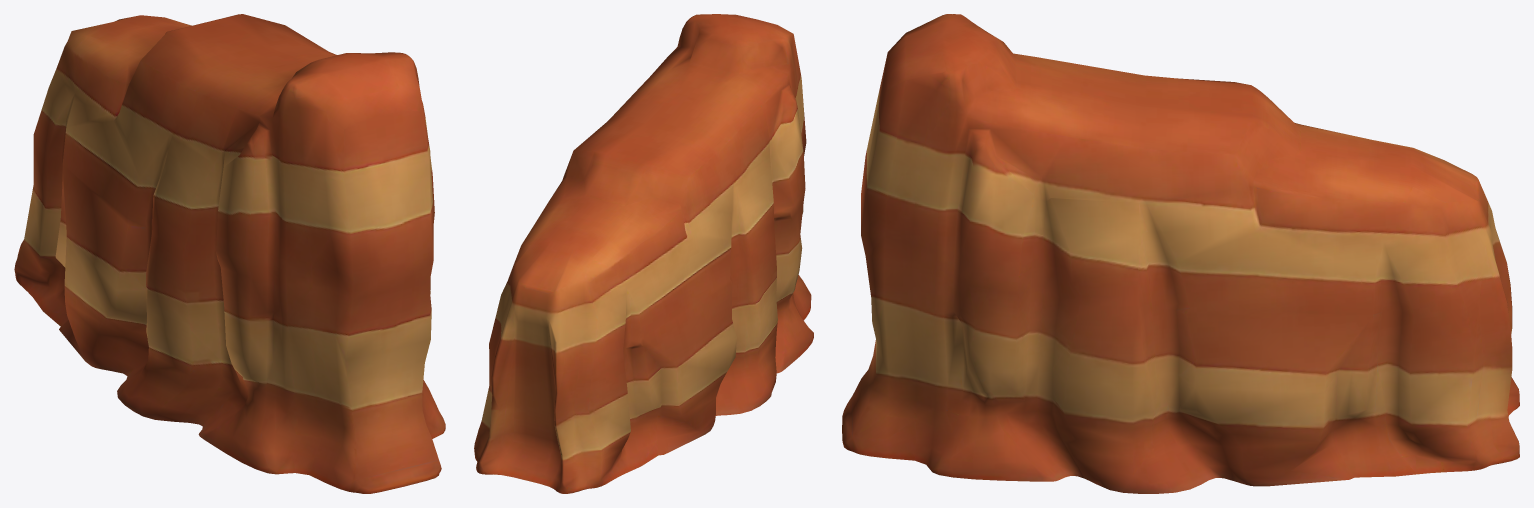
Rendered from SM_Tripo_DesertYardangMedium.glb.
The picture shows the model from 3 angles, left to right: view 1: azimuth 30°, elevation 25°; view 2: azimuth 150°, elevation 25°; view 3: azimuth 270°, elevation 25°; orthographic projection. The views are drawn at different scales.
Parts seen in each view (by area): view 1: SM_Tripo_DesertYardangMedium_LOD0; view 2: SM_Tripo_DesertYardangMedium_LOD0; view 3: SM_Tripo_DesertYardangMedium_LOD0.
Boxes of the visible parts, x1,y1,x2,y2 form: SM_Tripo_DesertYardangMedium_LOD0: (14, 14, 445, 493); SM_Tripo_DesertYardangMedium_LOD0: (474, 14, 813, 493); SM_Tripo_DesertYardangMedium_LOD0: (842, 14, 1519, 493).
Size of the model in its own units: 6.21 by 9 by 14.01.
Materials: 1 (1 with a texture image).
